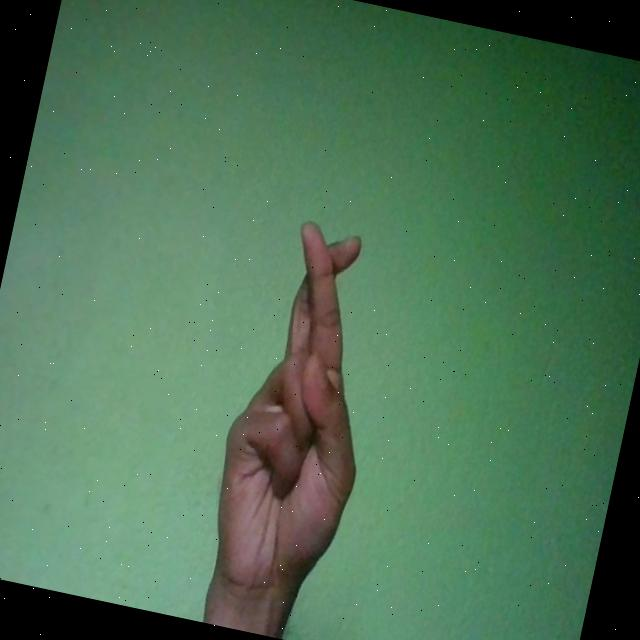Ok: (195, 213, 405, 614)
